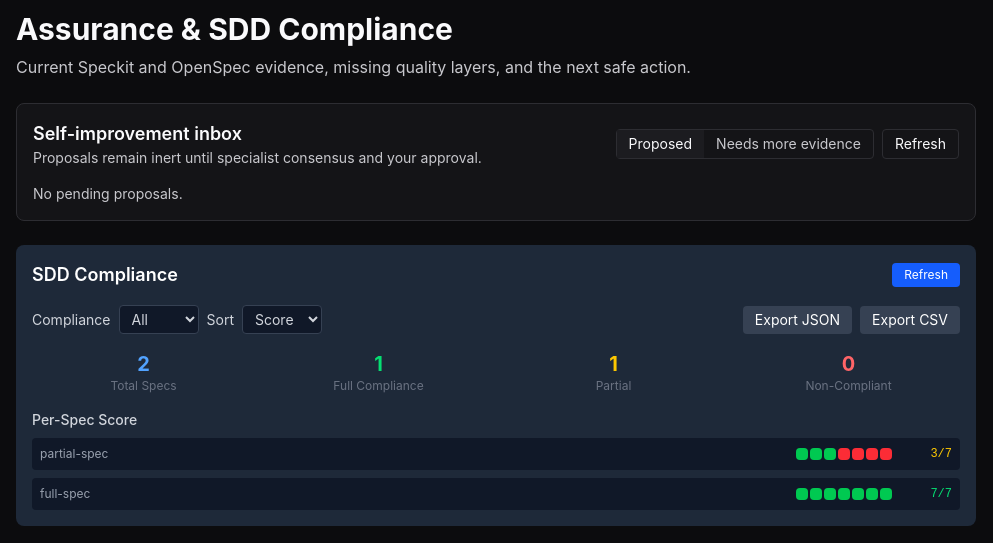
Test: CompliancePage › shows evidence and filters by compliance level
Expected: the text "full-spec" is shown, top-left (40, 486), bottom-right (90, 501)
Expected: the text "partial-spec" is shown, top-left (40, 446), bottom-right (108, 461)
Select "Full" in the dropdown named "Compliance filter": {"x": 158, "y": 320} top-left (118, 305), bottom-right (198, 334)
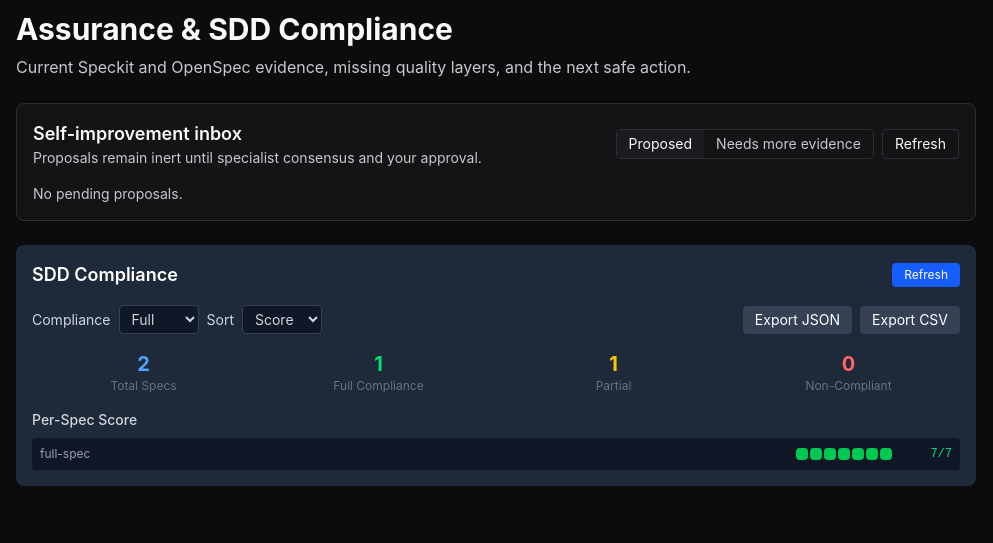
Expected: the button "Export JSON" is shown, top-left (743, 306), bottom-right (852, 334)
Now the button "partial-spec" is gone
